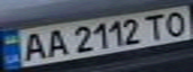1: (90, 19, 112, 49), (106, 17, 127, 47)
2: (69, 22, 93, 54), (121, 16, 145, 45)
A: (15, 29, 51, 62), (39, 26, 69, 59)
O: (160, 8, 193, 37)
T: (139, 11, 172, 40)
